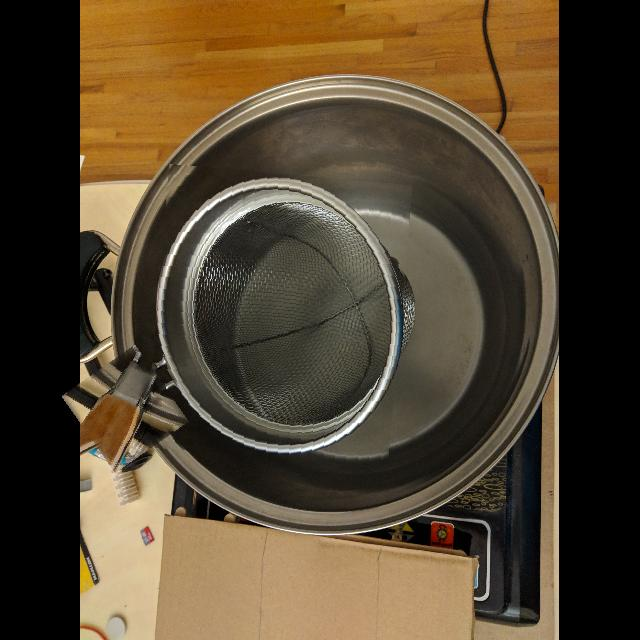Handle: (71, 354, 179, 464)
Strainer: (150, 169, 406, 463)
